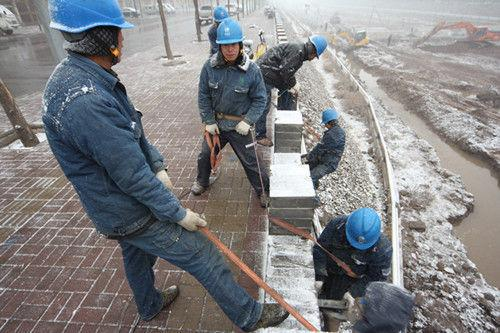helmet: (44, 1, 134, 78), (342, 204, 384, 258), (214, 14, 246, 64), (301, 34, 330, 63), (319, 107, 340, 133), (211, 3, 230, 30)
